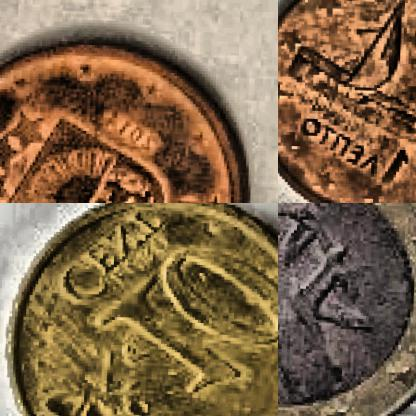coin: (0, 203, 277, 415), (0, 39, 260, 202), (278, 203, 415, 415), (278, 0, 415, 202)
